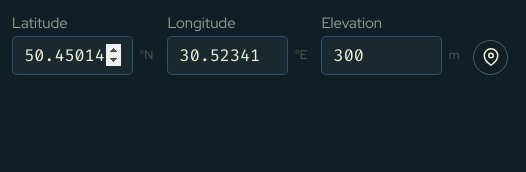
Test case: LocationInput › leaves elevation alone when the browser does not report altitude
Click the button named "use my location". click: (491, 57)
box: [474,40,508,75]
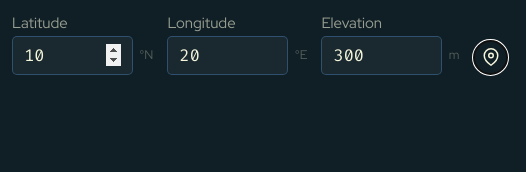
Expected: the number field labelled "Elevation m" holds "300", [321,36,442,75]
Now the number field labelled "Latitude °N" holds "10", box [12,36,133,75]
